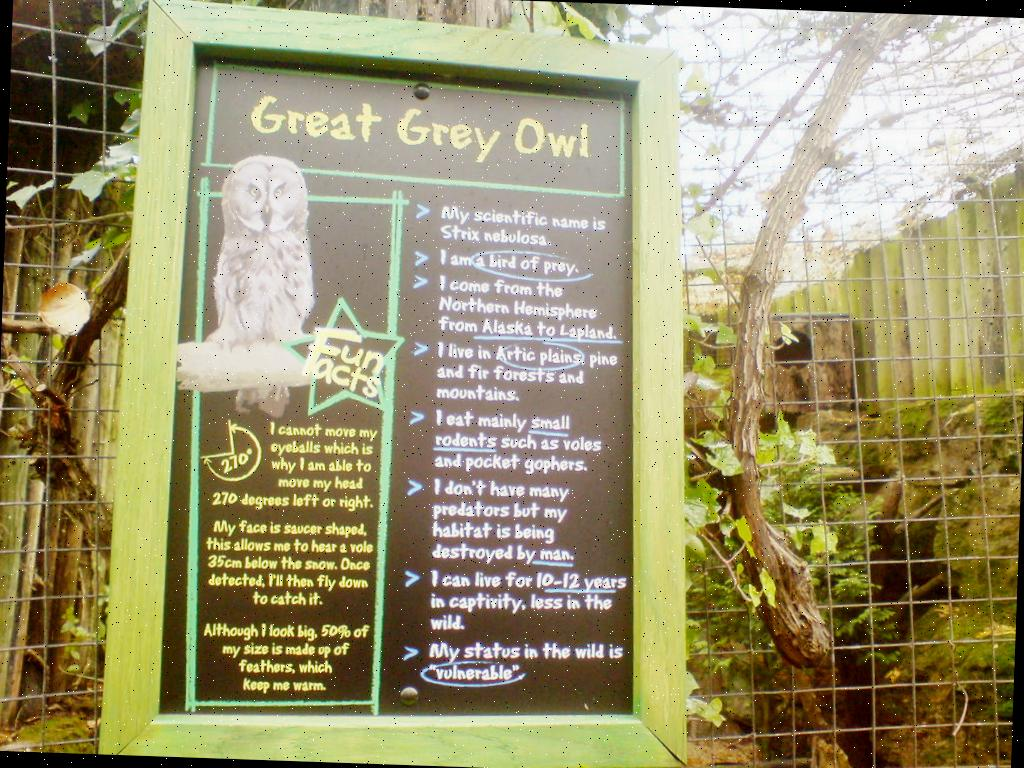Owl: (194, 154, 325, 424)
